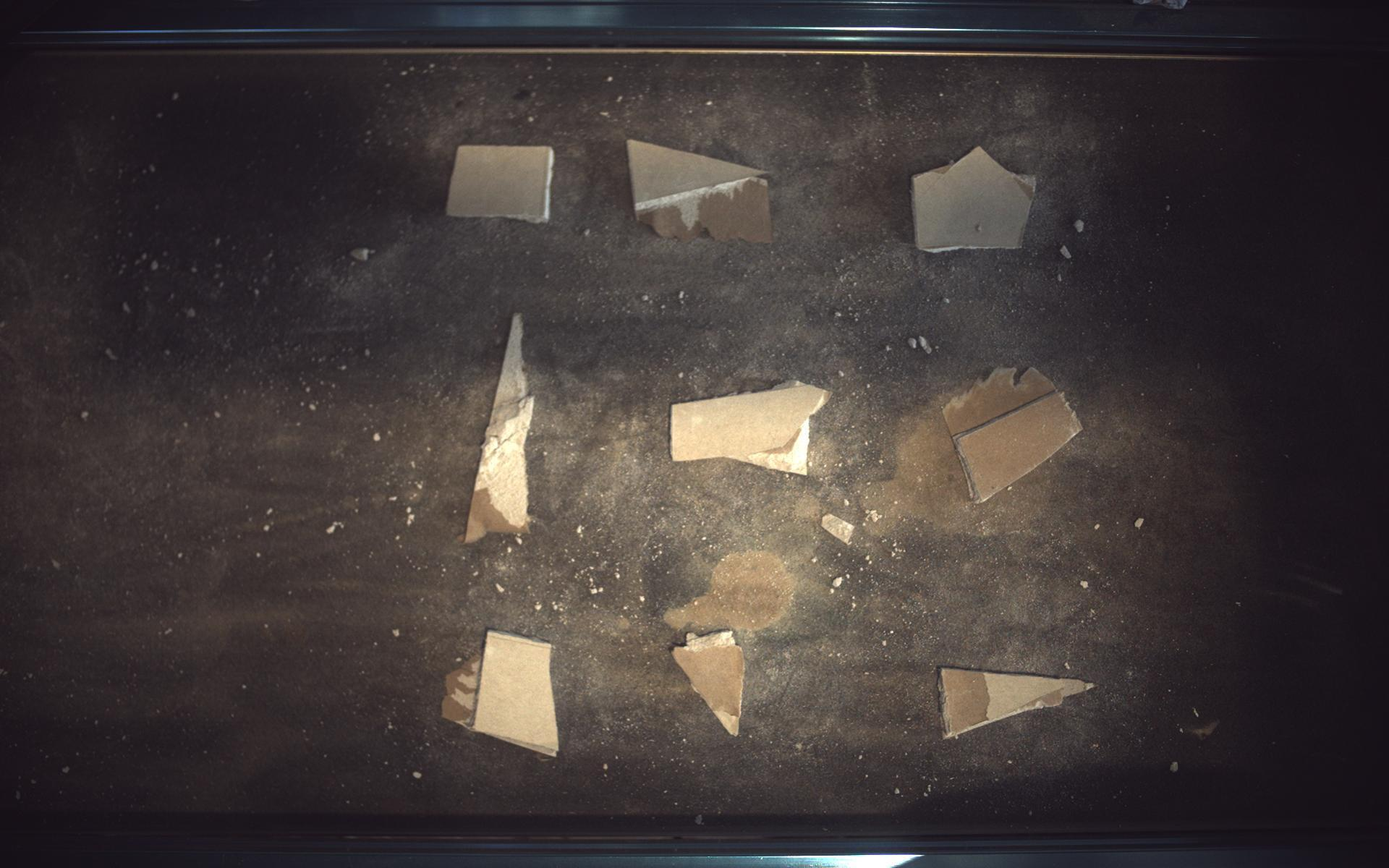gypsum_board: (945, 367, 1084, 503), (464, 312, 535, 544), (671, 380, 831, 475), (628, 138, 773, 242), (442, 631, 559, 758), (913, 145, 1037, 252), (940, 669, 1096, 740), (448, 144, 554, 222), (674, 631, 746, 737)
